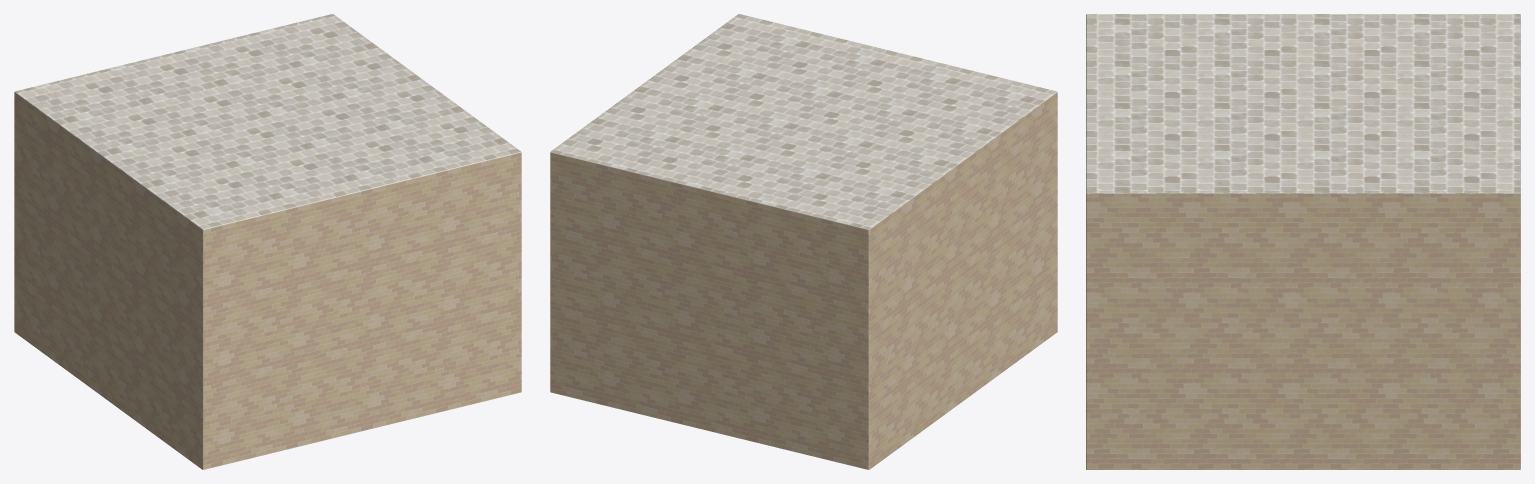
The model's file is SM_platform_02.fbx.
The picture shows the model from 3 angles, left to right: view 1: azimuth 30°, elevation 25°; view 2: azimuth 150°, elevation 25°; view 3: azimuth 270°, elevation 25°; orthographic projection. The views are drawn at different scales.
Parts seen in each view (by area): view 1: Object33206; view 2: Object33206; view 3: Object33206.
Part boxes in pixels (left/top/right/bottom): Object33206: left=14, top=14, right=521, bottom=469; Object33206: left=550, top=14, right=1057, bottom=469; Object33206: left=1086, top=14, right=1520, bottom=469.
Bounding box in the file's own units: 447 × 322 × 459.
